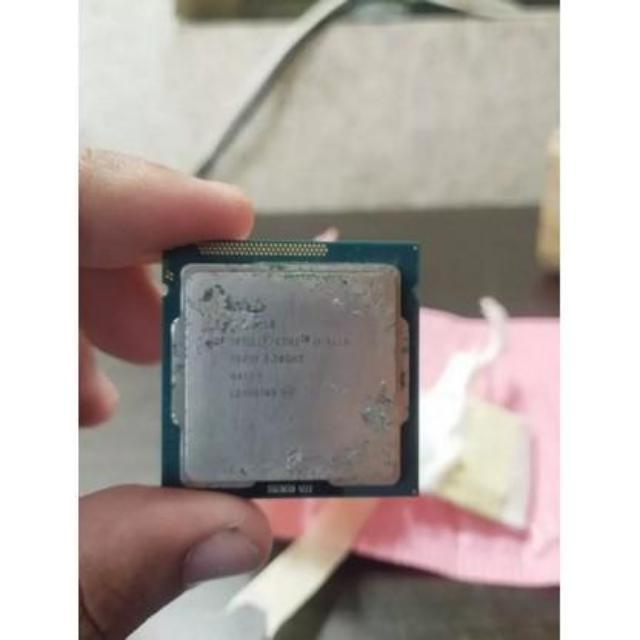CPU: (162, 235, 418, 498)
